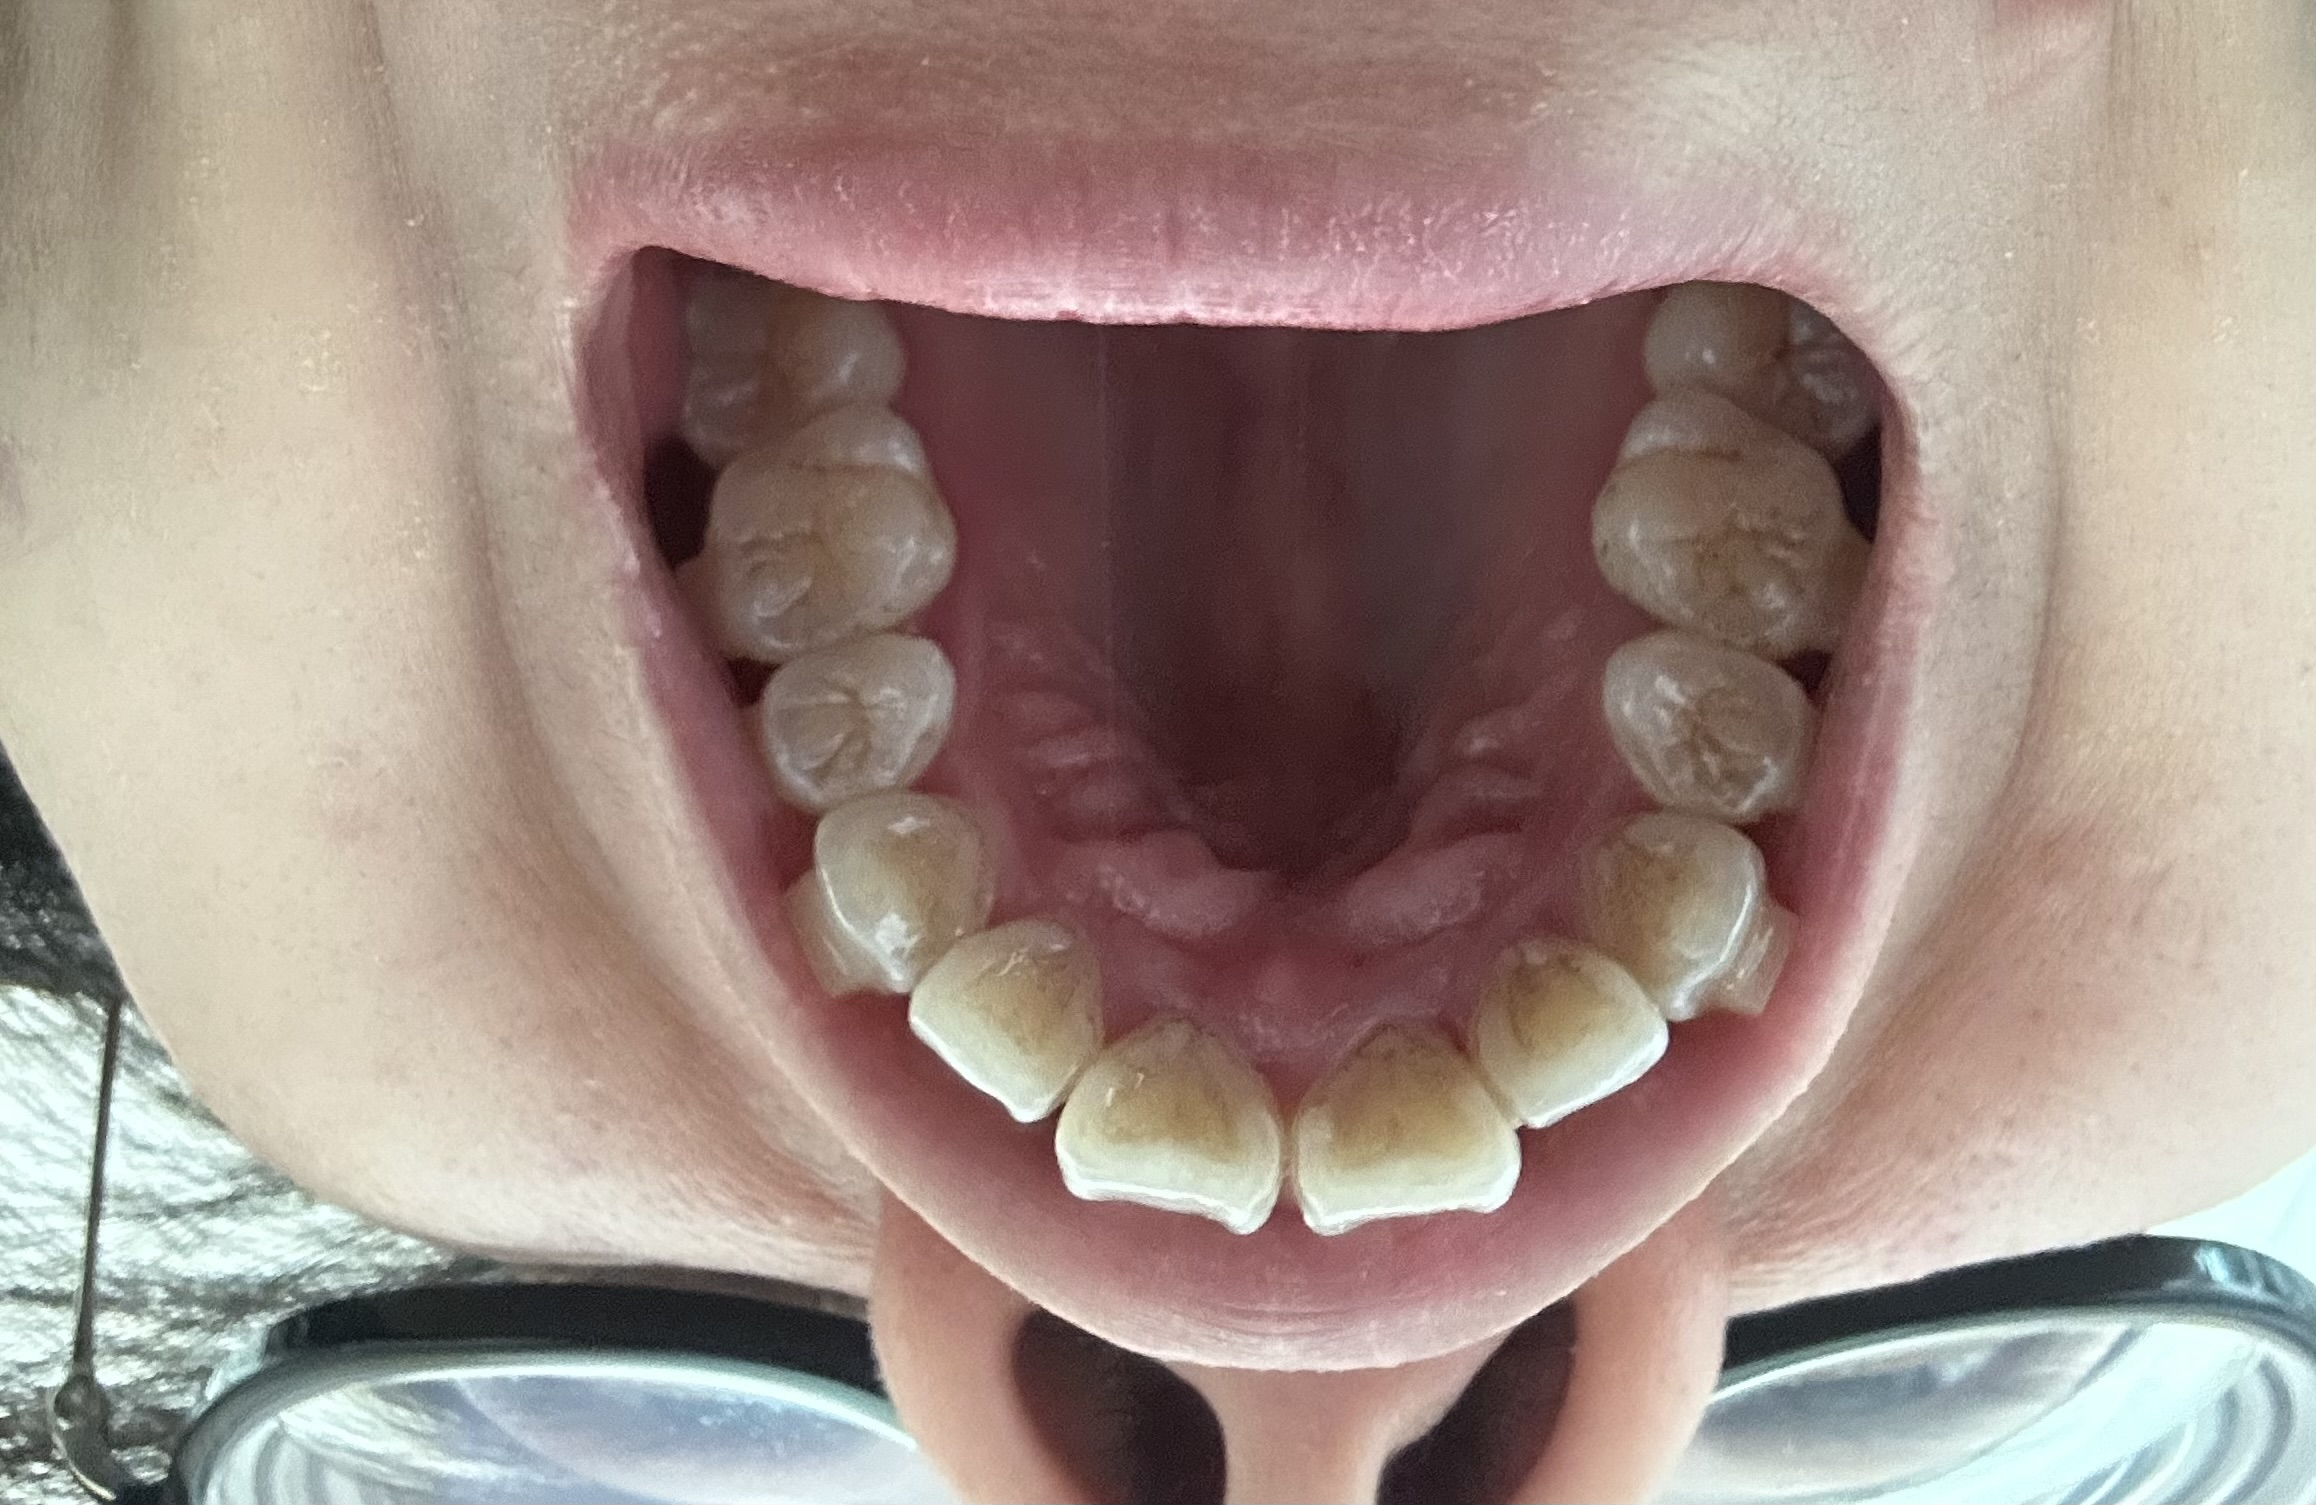teeth: (697, 400, 942, 653), (1609, 407, 1853, 645), (1298, 1026, 1514, 1227), (1065, 1026, 1274, 1228), (908, 928, 1096, 1135), (1590, 805, 1774, 1006), (1659, 292, 1869, 462), (814, 793, 991, 994), (770, 634, 971, 803), (1477, 952, 1668, 1125), (1614, 636, 1801, 806), (695, 297, 898, 444)
